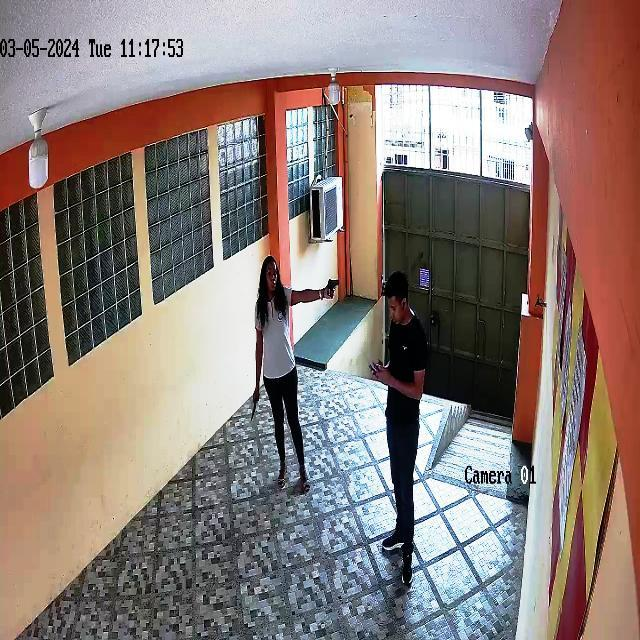Gun: (317, 272, 354, 314)
Knife: (239, 383, 277, 428)
